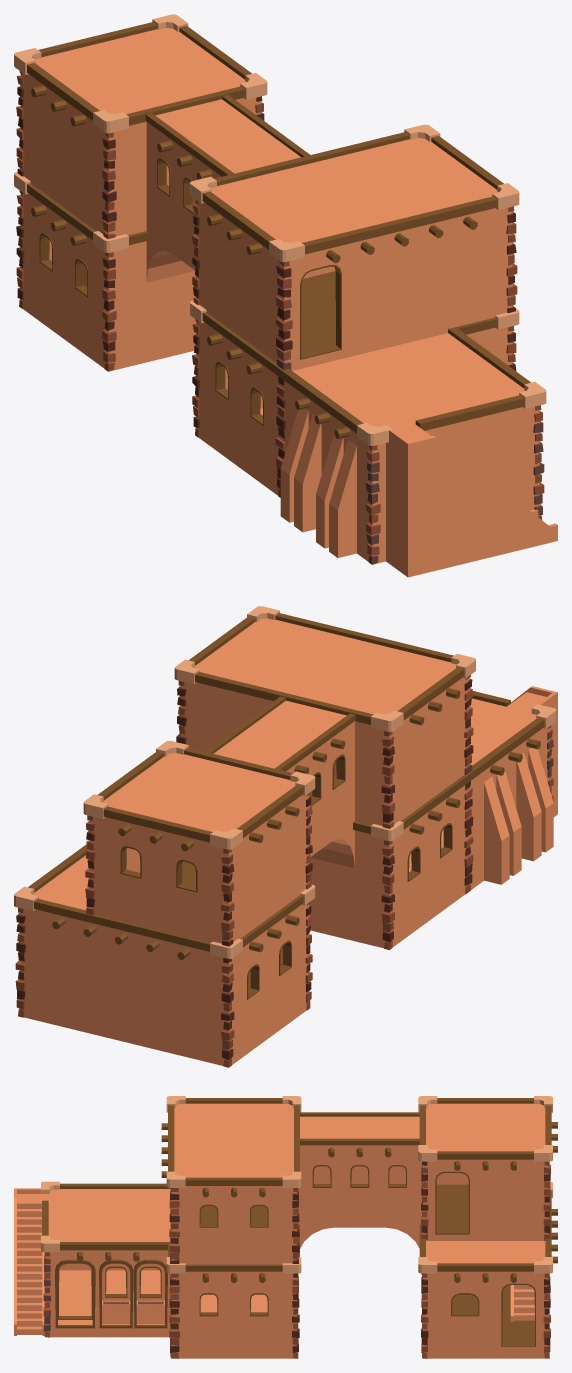
The model's file is House.003.fbx.
3 views of the same model, one above another, from view 1: azimuth 30°, elevation 25°; view 2: azimuth 150°, elevation 25°; view 3: azimuth 270°, elevation 25° (orthographic). The views are drawn at different scales.
Visible parts, largest first — view 1: NewHouse.003; view 2: NewHouse.003; view 3: NewHouse.003.
Part boxes in pixels (box(x1,y1,x2,y2)): NewHouse.003: box(14, 14, 557, 577); NewHouse.003: box(14, 606, 557, 1067); NewHouse.003: box(14, 1096, 557, 1358).
Size of the model in its own units: 6.8 by 6.35 by 17.3.
